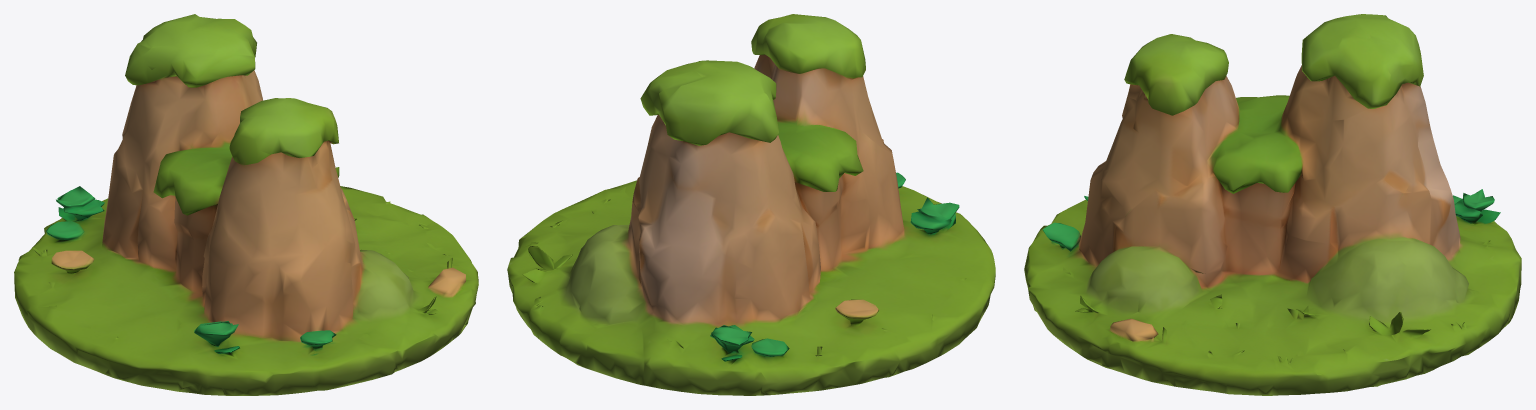
File: textures.glb
3 views of the same model, side by side, from view 1: azimuth 30°, elevation 25°; view 2: azimuth 150°, elevation 25°; view 3: azimuth 270°, elevation 25° (orthographic). The views are drawn at different scales.
Visible parts, largest first — view 1: tripo_node_ede0281d-aaf3-4e7a-942c-889cd29716e6; view 2: tripo_node_ede0281d-aaf3-4e7a-942c-889cd29716e6; view 3: tripo_node_ede0281d-aaf3-4e7a-942c-889cd29716e6.
Boxes of the visible parts, x1,y1,x2,y2 form: tripo_node_ede0281d-aaf3-4e7a-942c-889cd29716e6: (14, 14, 478, 395); tripo_node_ede0281d-aaf3-4e7a-942c-889cd29716e6: (507, 14, 995, 395); tripo_node_ede0281d-aaf3-4e7a-942c-889cd29716e6: (1024, 14, 1521, 395).
Size of the model in its own units: 0.9974 by 0.5814 by 1.
Materials: 1 (1 with a texture image).
